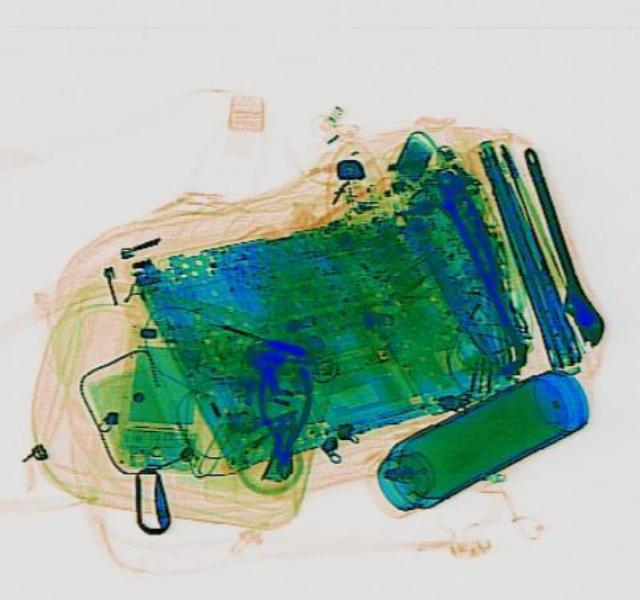Pliers: (253, 365, 311, 478)
Wrench: (508, 140, 610, 348)
